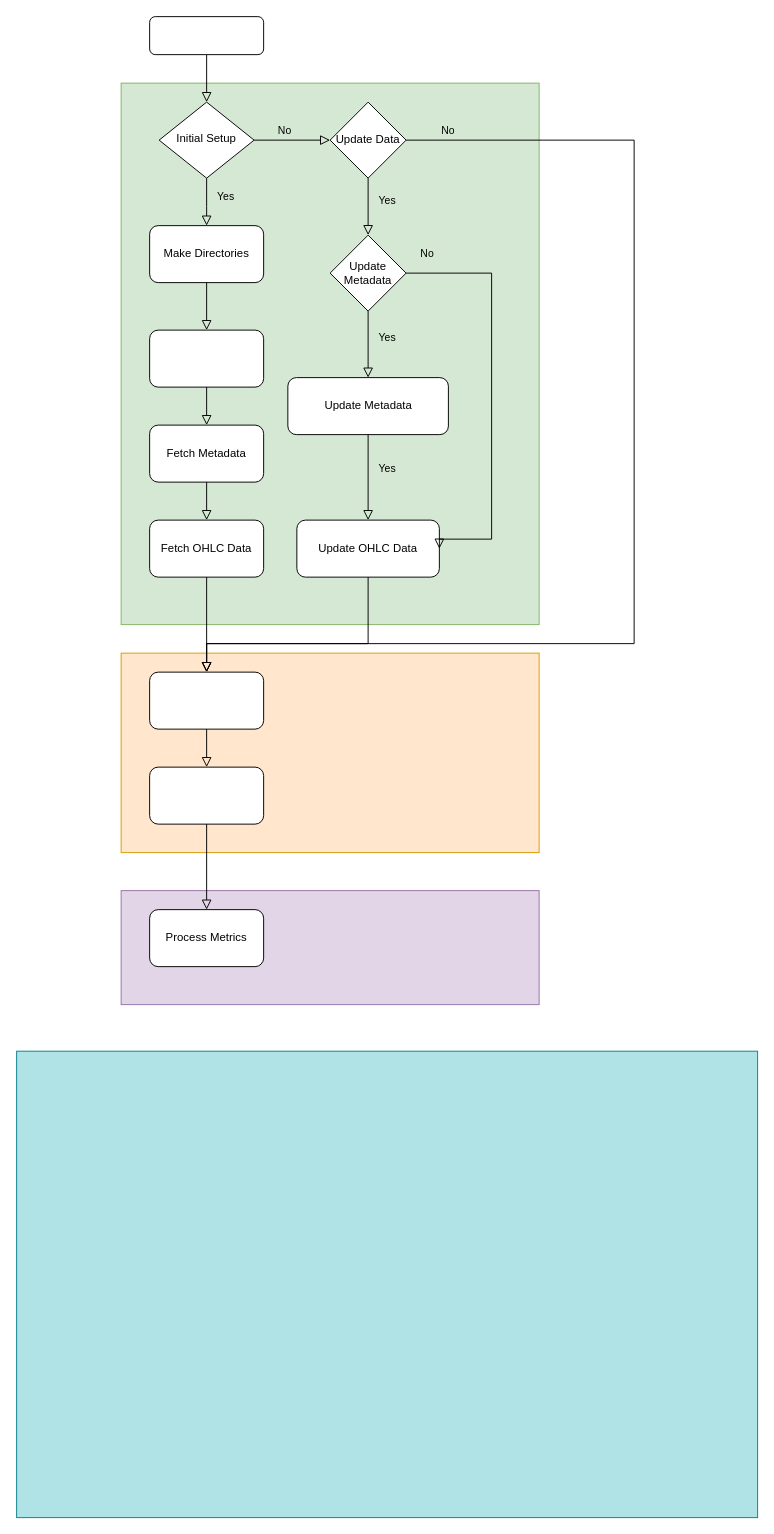
The diagram is 774 pixels wide and 1534 high, and some of its shapes have lost their labels. The shapes that lost their labels are listed below. From the top down, each one's centre as x and y in pixels, then its label:
At (x=206, y=35): "Initialisation".
At (x=206, y=358): "Fetch Nifty500 List".
At (x=206, y=700): "Clean Metadata".
At (x=206, y=795): "Clean OHLC Data".
